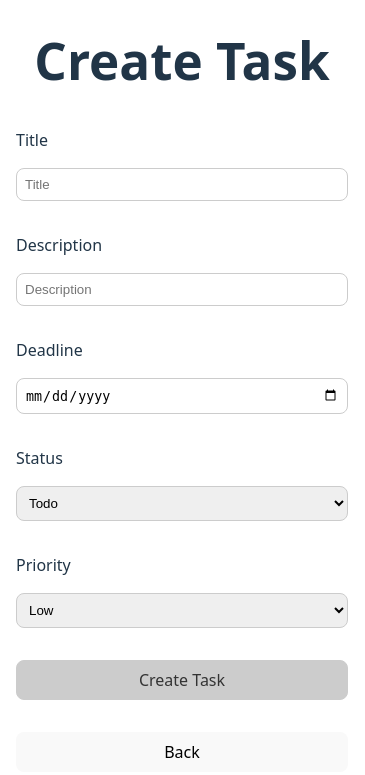
Test: CreateTaskPage › should show the toast when got an error creating a task
In the field with placeholder "Title": (182, 185) left=16, top=168, right=348, bottom=202, type "Test Task"
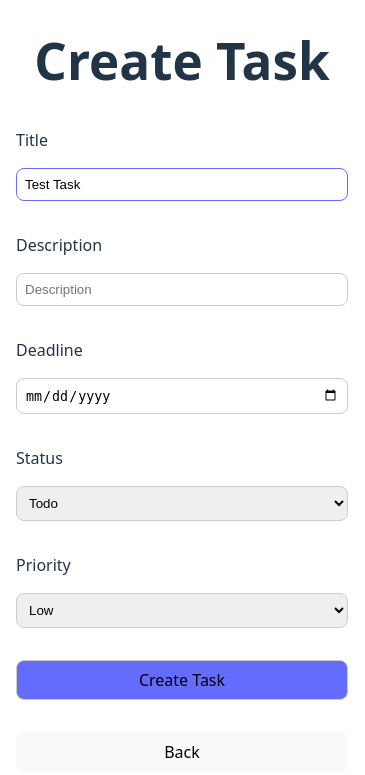
In the date field labelled "Deadline": (182, 396) left=16, top=378, right=348, bottom=414, type "2099-12-31"
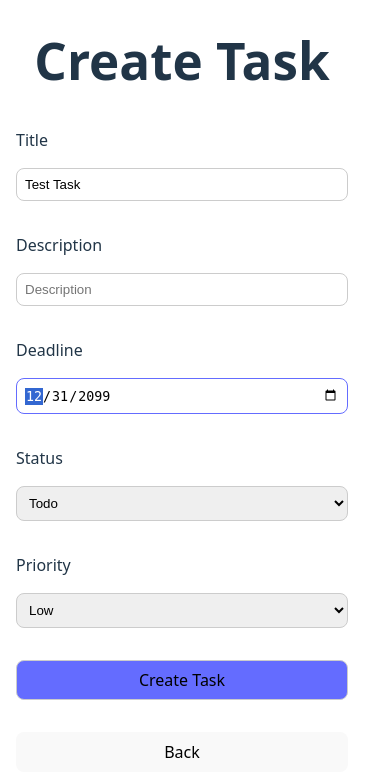
Click the button "Create Task": click(182, 680) left=16, top=660, right=348, bottom=700
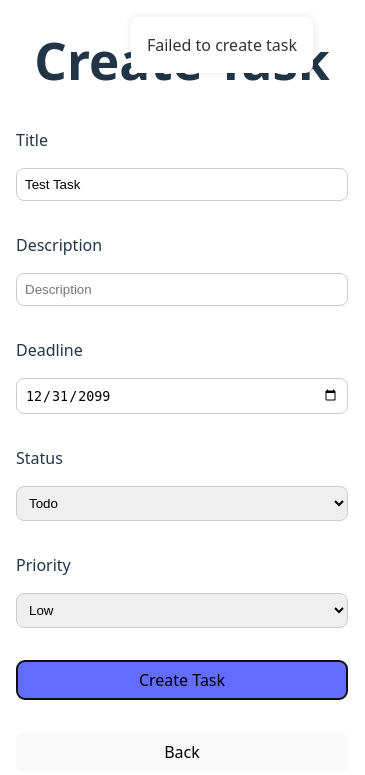
Result: the text "Failed to create task" is shown at left=147, top=33, right=297, bottom=57
